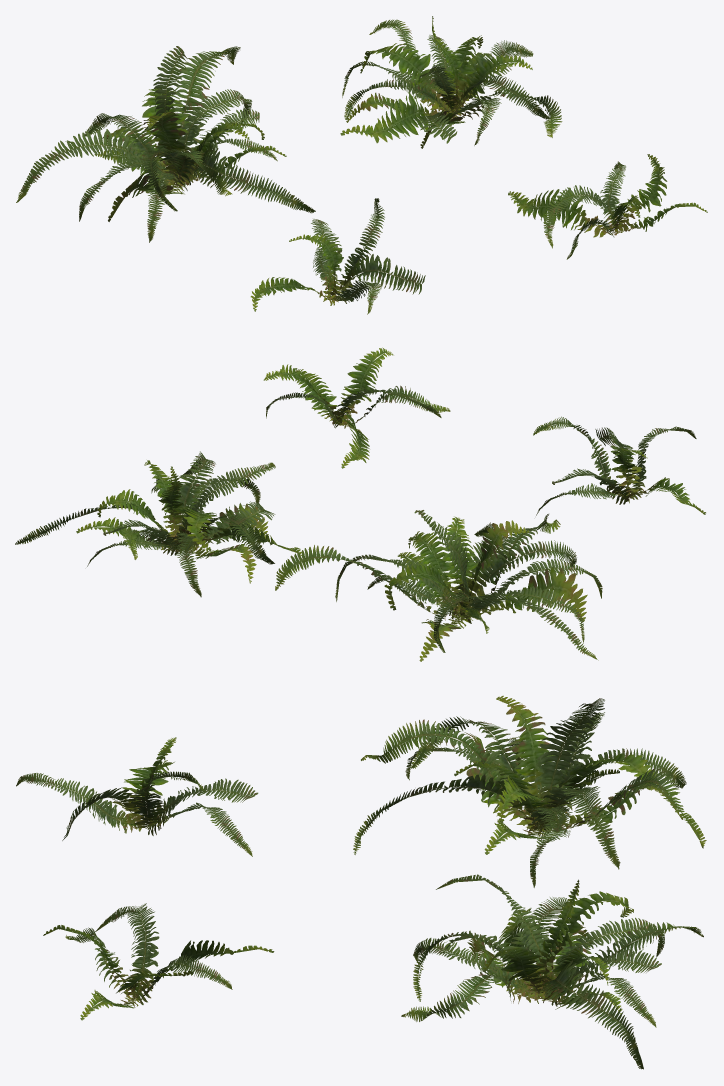
File: fern_02.glb
3 views of the same model, one above another, from view 1: azimuth 30°, elevation 25°; view 2: azimuth 150°, elevation 25°; view 3: azimuth 270°, elevation 25° (orthographic). The views are drawn at different scales.
Visible parts, largest first — view 1: fern_02_a; view 2: fern_02_a; view 3: fern_02_a.
Boxes of the visible parts, <box> form: fern_02_a: <box>16,16,707,314</box>; fern_02_a: <box>15,347,705,661</box>; fern_02_a: <box>16,695,706,1069</box>.
Bounding box in the file's own units: 1.97 × 0.4276 × 1.72.
1 material, 1 textured.
